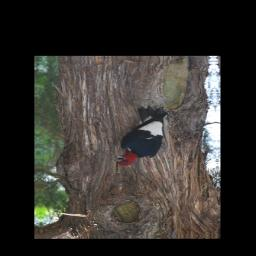Woodpecker: (107, 105, 174, 168)
